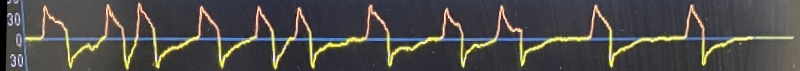normal_flow: (17, 0, 768, 71)
